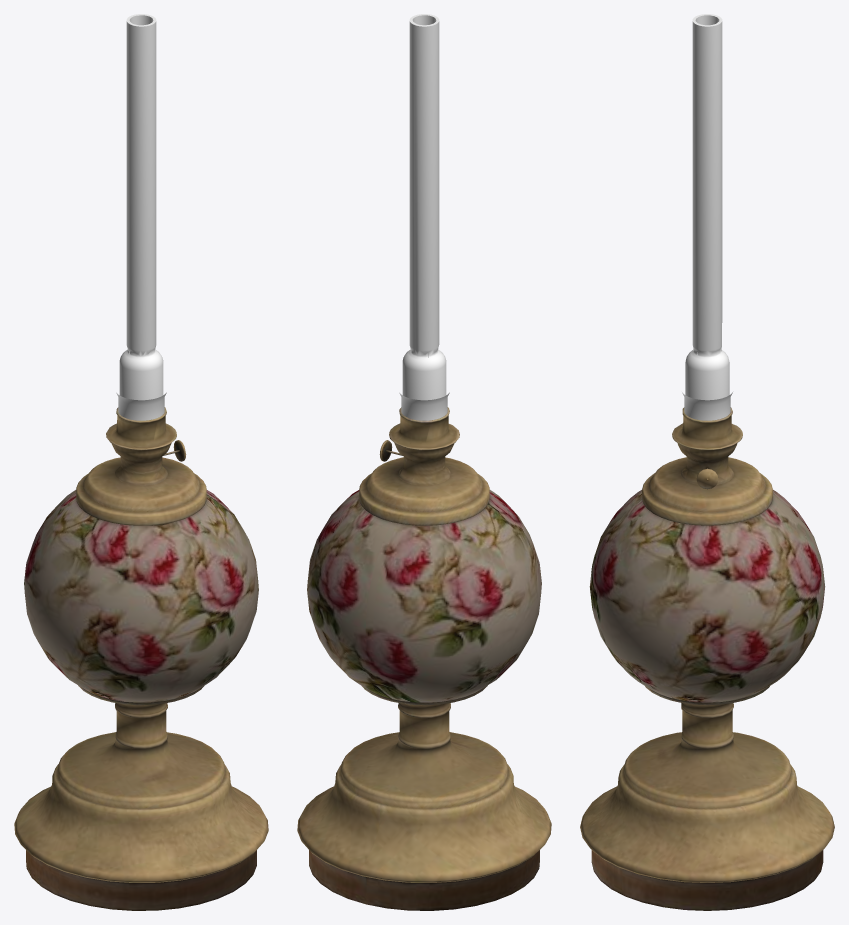
Rendered from vintage_oil_lamp.glb.
3 renders of one model, left to right at view 1: azimuth 30°, elevation 25°; view 2: azimuth 150°, elevation 25°; view 3: azimuth 270°, elevation 25°, orthographic.
Visible parts, largest first — view 1: vintage_oil_lamp_0, vintage_oil_lamp_glass_0; view 2: vintage_oil_lamp_0, vintage_oil_lamp_glass_0; view 3: vintage_oil_lamp_0, vintage_oil_lamp_glass_0.
Boxes of the visible parts, x1=… form: vintage_oil_lamp_0: x1=14, y1=407, x2=268, y2=910; vintage_oil_lamp_glass_0: x1=116, y1=14, x2=166, y2=420; vintage_oil_lamp_0: x1=297, y1=407, x2=551, y2=910; vintage_oil_lamp_glass_0: x1=399, y1=14, x2=449, y2=420; vintage_oil_lamp_0: x1=580, y1=407, x2=834, y2=910; vintage_oil_lamp_glass_0: x1=682, y1=14, x2=732, y2=420.
Size of the model in its own units: 0.22 by 0.8016 by 0.22.
3 materials, 1 textured.
